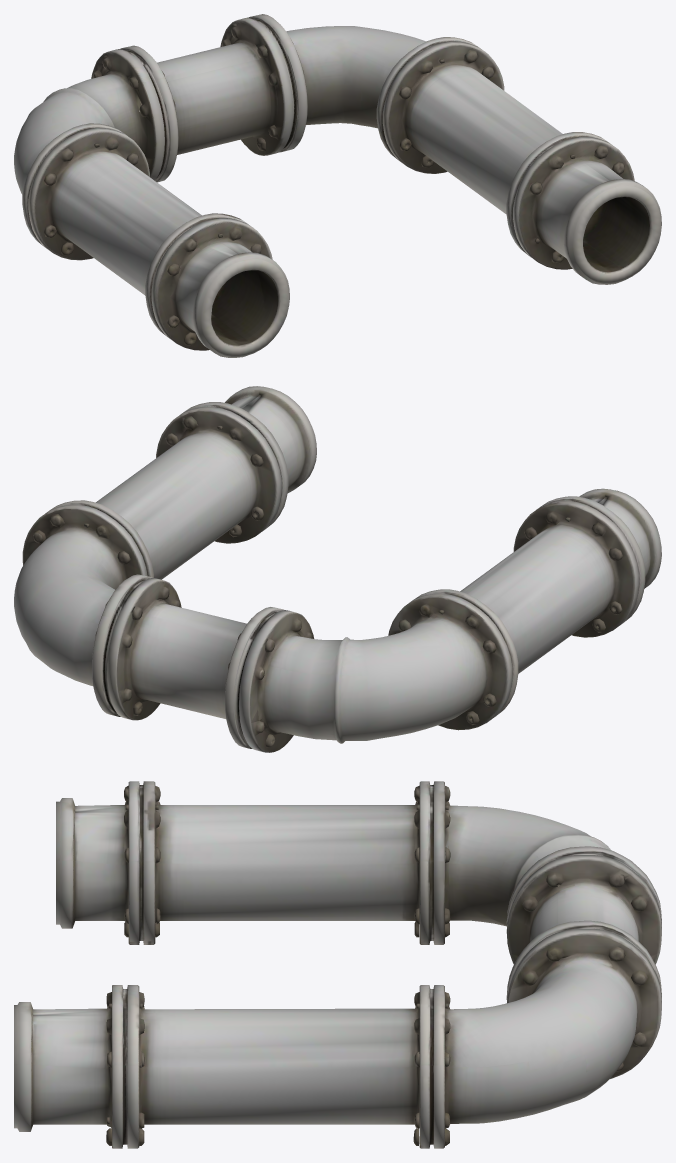
Rendered from l-shaped_industrial_pipe_f7fd8524_v1.glb.
The picture shows the model from 3 angles, top to bottom: view 1: azimuth 30°, elevation 25°; view 2: azimuth 150°, elevation 25°; view 3: azimuth 270°, elevation 25°; orthographic projection. The views are drawn at different scales.
Visible parts, largest first — view 1: material; view 2: material; view 3: material.
Boxes of the visible parts, x1,y1,x2,y2 form: material: [14, 14, 661, 357]; material: [14, 386, 661, 752]; material: [14, 781, 661, 1148].
Size of the model in its own units: 1.88 by 0.4863 by 1.9.
Materials: 1 (1 with a texture image).
